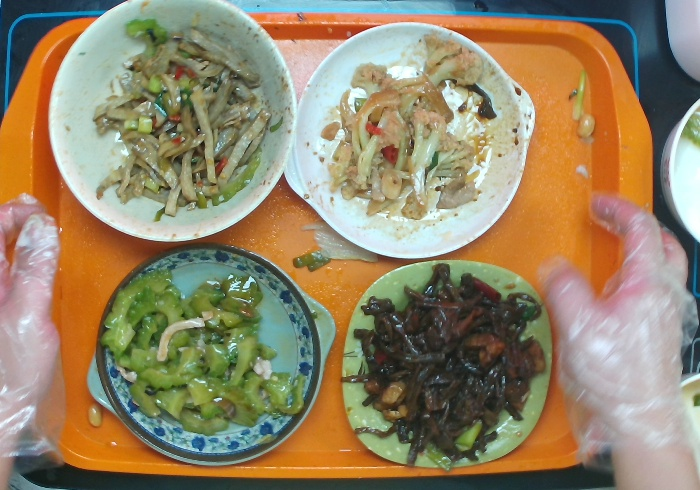NLDX-Bai_Se_Shuang_Er_Die: (279, 22, 538, 263)
NLDX-Bai_Se_Yuan_Wan: (43, 4, 298, 247)
NLDX-Lv_Hua_Fang_Die: (344, 260, 549, 465)
NLDX-Qing_Hua_Shuang_Er_Die: (79, 245, 338, 468)
